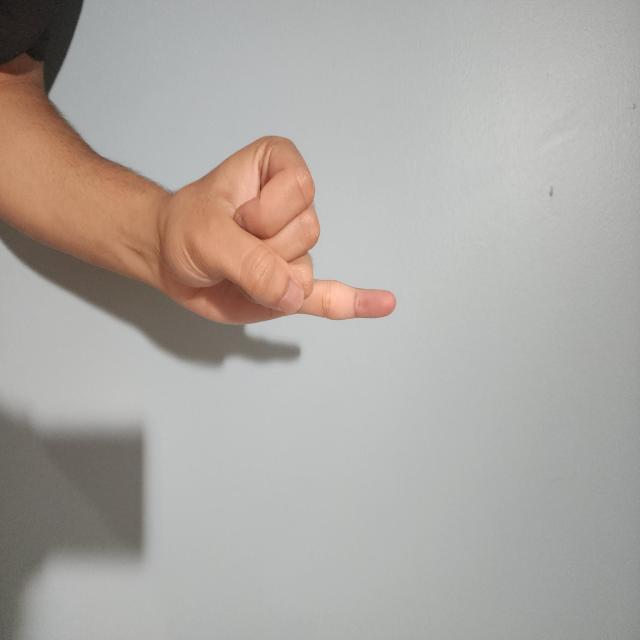I: (259, 318, 408, 640)
